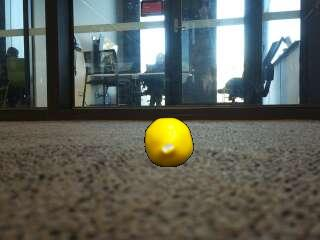lemon: (146, 118, 194, 166)
